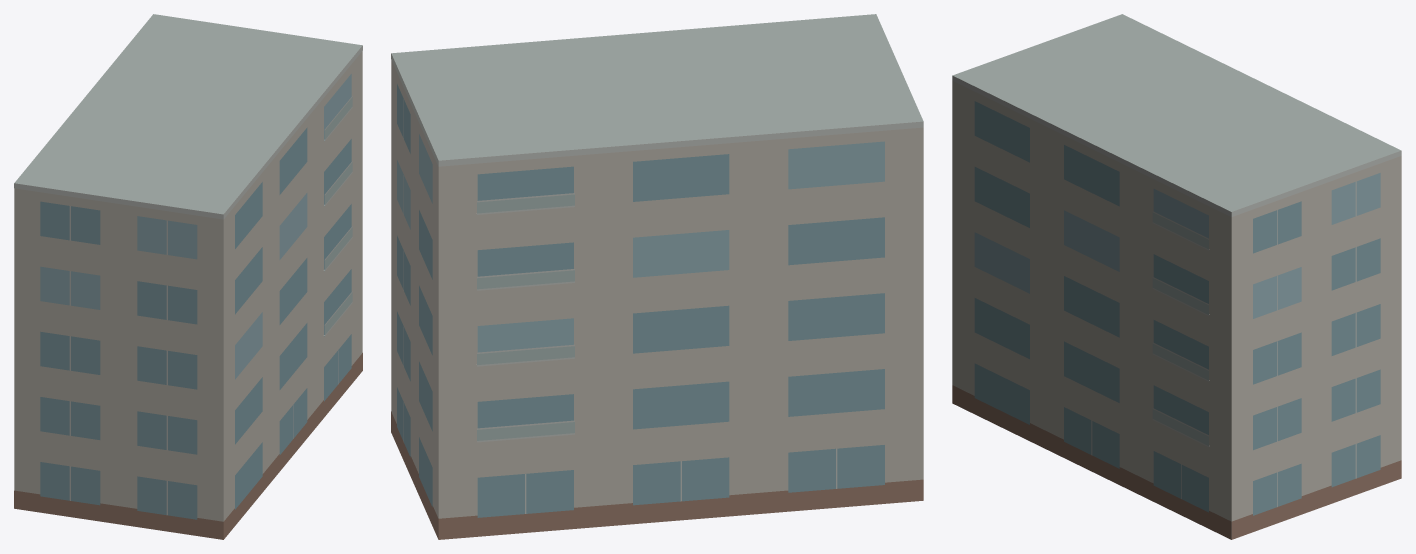
File: survey-upis-32658900.glb
3 views of the same model, side by side, from view 1: azimuth 30°, elevation 25°; view 2: azimuth 150°, elevation 25°; view 3: azimuth 270°, elevation 25° (orthographic). The views are drawn at different scales.
Visible parts, largest first — view 1: survey-upis-32658900.tmp; view 2: survey-upis-32658900.tmp; view 3: survey-upis-32658900.tmp.
Part boxes in pixels (left/top/right/bottom): survey-upis-32658900.tmp: left=14, top=14, right=362, bottom=539; survey-upis-32658900.tmp: left=391, top=14, right=923, bottom=539; survey-upis-32658900.tmp: left=952, top=14, right=1401, bottom=539.
Size of the model in its own units: 19.95 by 15.4 by 19.13.
